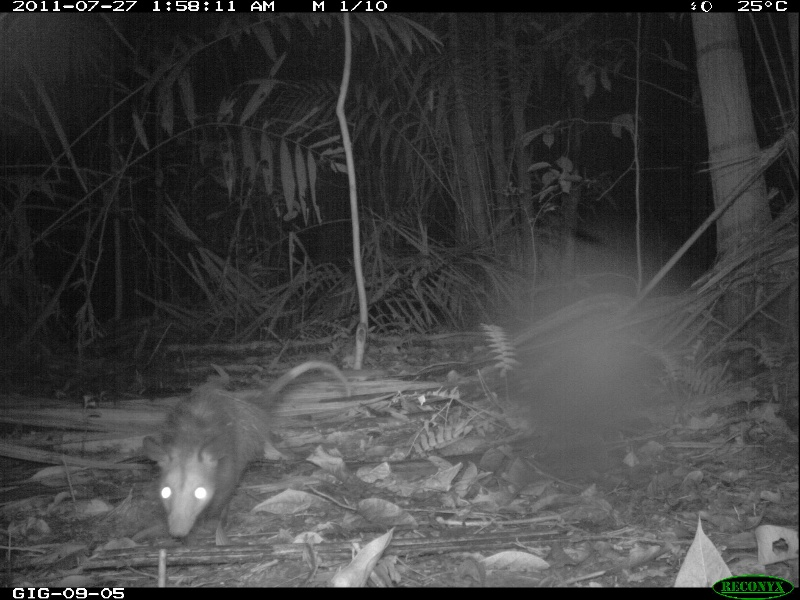opossum: (140, 355, 357, 553)
